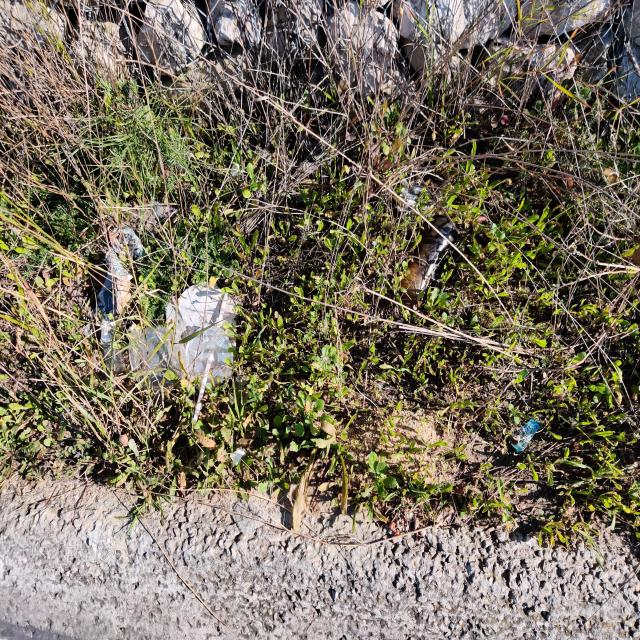litter: (114, 278, 245, 387), (380, 215, 467, 305)
